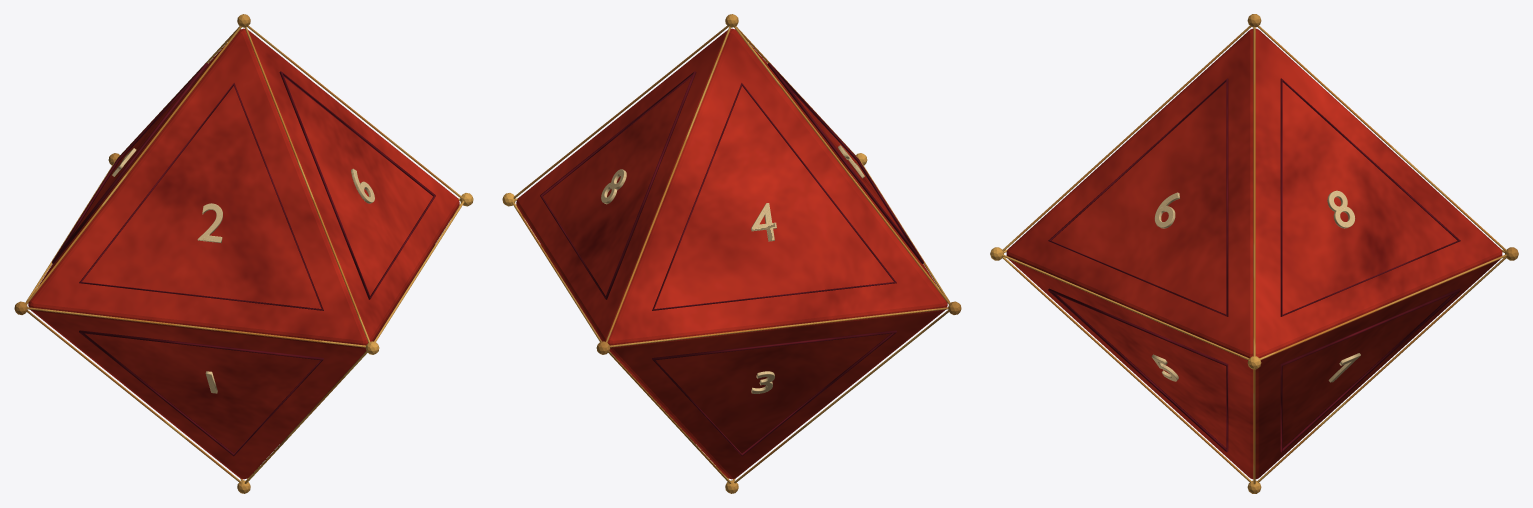
Rendered from D8_八面骰_朱砂鎏金_baked.glb.
The picture shows the model from 3 angles, left to right: view 1: azimuth 30°, elevation 25°; view 2: azimuth 150°, elevation 25°; view 3: azimuth 270°, elevation 25°; orthographic projection.
Parts seen in each view (by area): view 1: D8_Body_8_Faces, D8_Occult_Face_Borders, D8_Aged_Bronze_Edges, D8_Vertex_Studs; view 2: D8_Body_8_Faces, D8_Occult_Face_Borders, D8_Aged_Bronze_Edges, D8_Vertex_Studs; view 3: D8_Body_8_Faces, D8_Occult_Face_Borders, D8_Aged_Bronze_Edges, D8_Vertex_Studs, D8_Face_08_8.
Boxes of the visible parts, x1,y1,x2,y2 form: D8_Body_8_Faces: (28,28,459,479); D8_Occult_Face_Borders: (52,63,435,456); D8_Aged_Bronze_Edges: (25,25,464,483); D8_Vertex_Studs: (14,14,473,493); D8_Body_8_Faces: (516,28,947,479); D8_Occult_Face_Borders: (540,63,923,456); D8_Aged_Bronze_Edges: (511,25,950,483); D8_Vertex_Studs: (502,14,961,493); D8_Body_8_Faces: (1006,28,1502,479); D8_Occult_Face_Borders: (1048,78,1460,452); D8_Aged_Bronze_Edges: (1002,26,1506,484); D8_Vertex_Studs: (990,14,1518,493); D8_Face_08_8: (1327,190,1355,228).
Bounding box in the file's own units: 4.16 × 4.17 × 4.17.
Materials: 12 (12 with a texture image).
